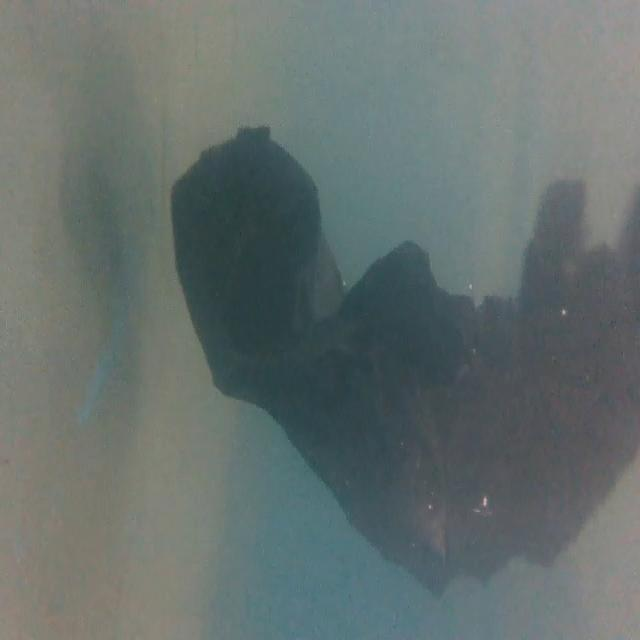plastic bags: (170, 127, 640, 574)
